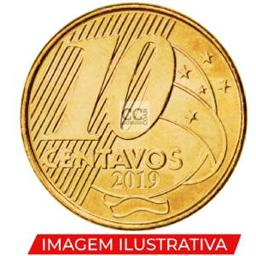10 cent: (19, 1, 247, 230)
